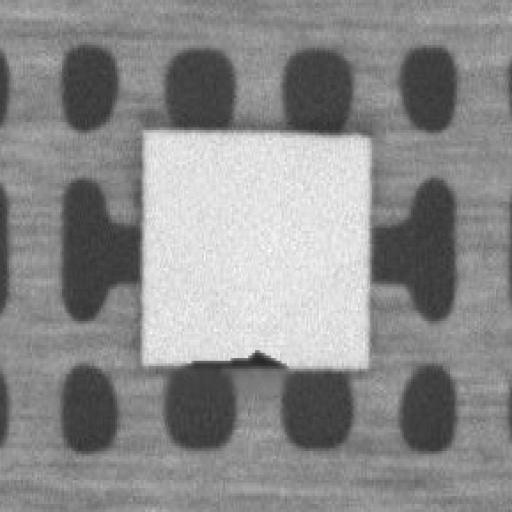DIE_BROKEN: (188, 332, 289, 366)
